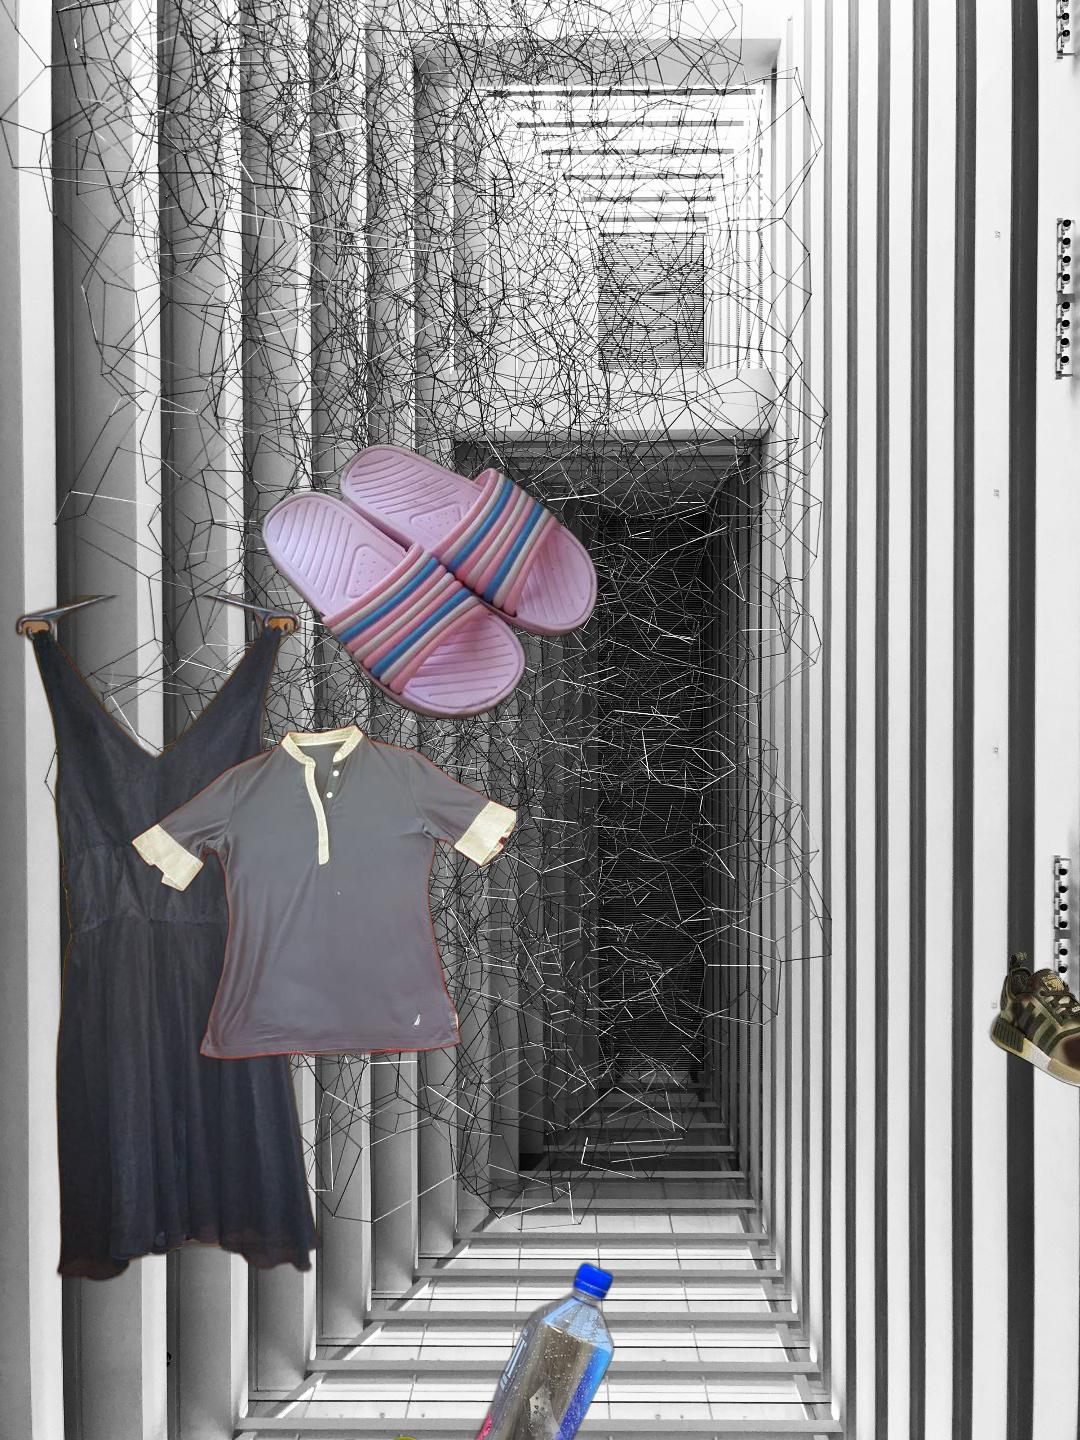biological: (289, 1433, 446, 1440)
clothes: (12, 595, 324, 1287), (127, 719, 516, 1065)
plastic-bottles: (453, 1257, 619, 1440)
shoes: (254, 440, 604, 723), (984, 949, 1080, 1092)
